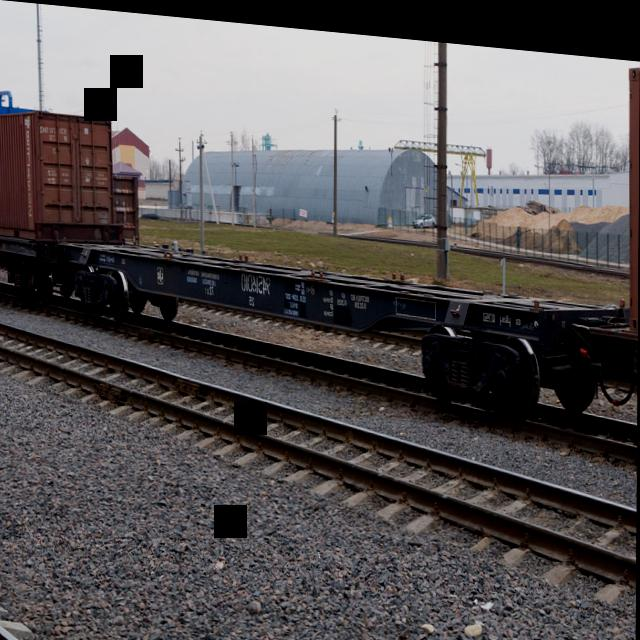container: (0, 95, 120, 257)
flatcar: (61, 225, 615, 424)
